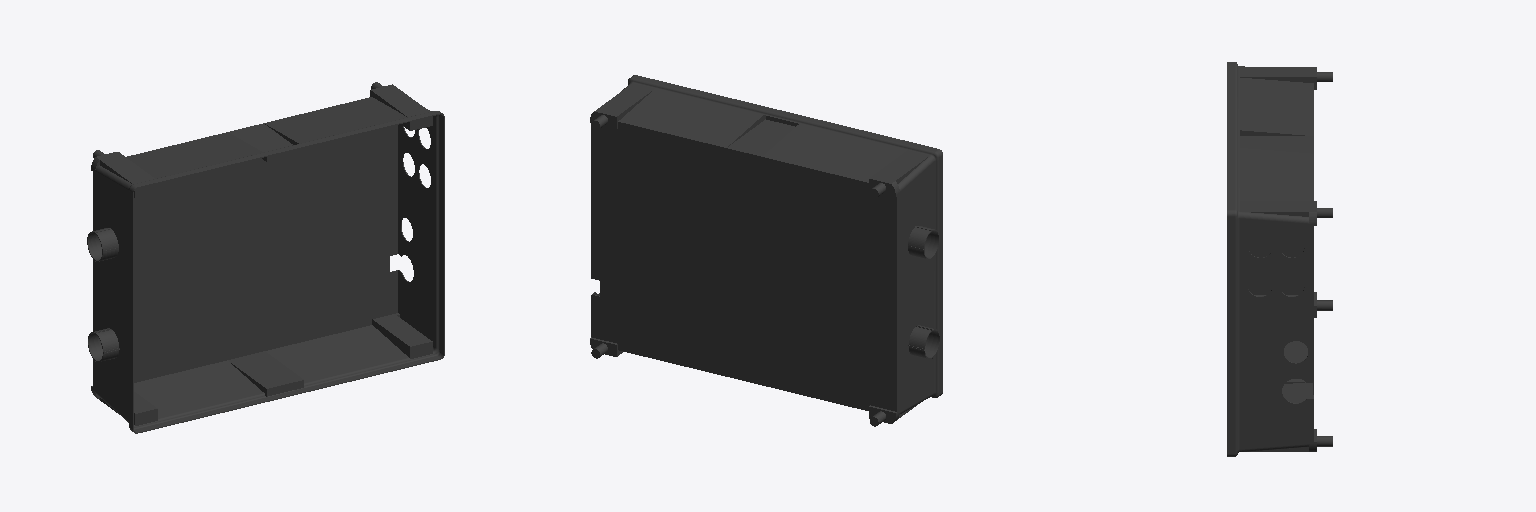
Rendered from backcover.obj.
The picture shows the model from 3 angles: view 1: azimuth 30°, elevation 25°; view 2: azimuth 150°, elevation 25°; view 3: azimuth 270°, elevation 25°; orthographic projection.
Visible parts, largest first — view 1: backcover; view 2: backcover; view 3: backcover.
Boxes of the visible parts, box(x1,y1,x2,y2) form: backcover: box(87, 82, 444, 433); backcover: box(590, 75, 942, 426); backcover: box(1227, 62, 1332, 456).
Size of the model in its own units: 363 by 263 by 102.